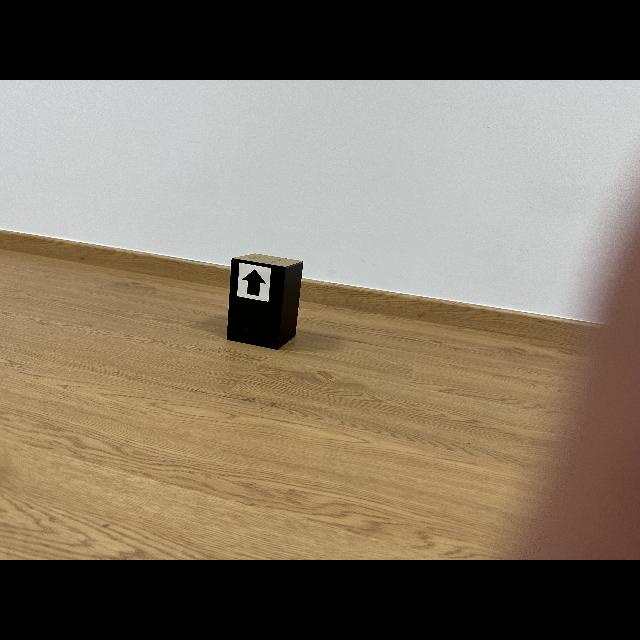UP: (242, 270, 265, 296)
